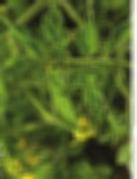Tomato leaf mosaic virus: (50, 68, 76, 124), (40, 2, 70, 50), (83, 67, 104, 127), (106, 21, 131, 58), (77, 19, 99, 60)
